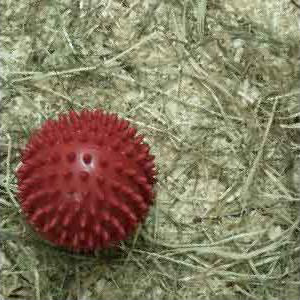ball: (16, 107, 158, 254)
